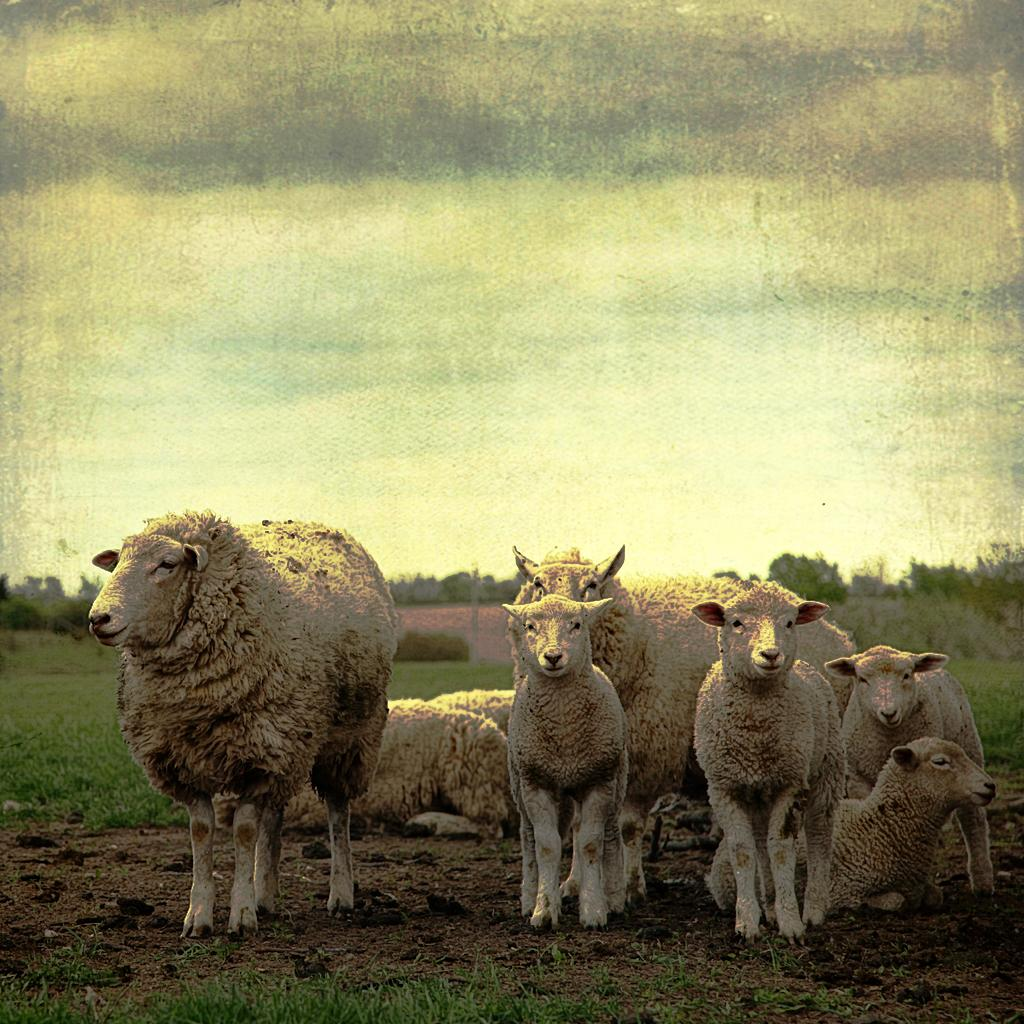Sheep: (86, 515, 380, 932), (506, 544, 699, 820), (690, 582, 835, 942), (502, 587, 628, 939), (826, 734, 993, 903), (823, 645, 983, 779), (384, 690, 508, 840)
